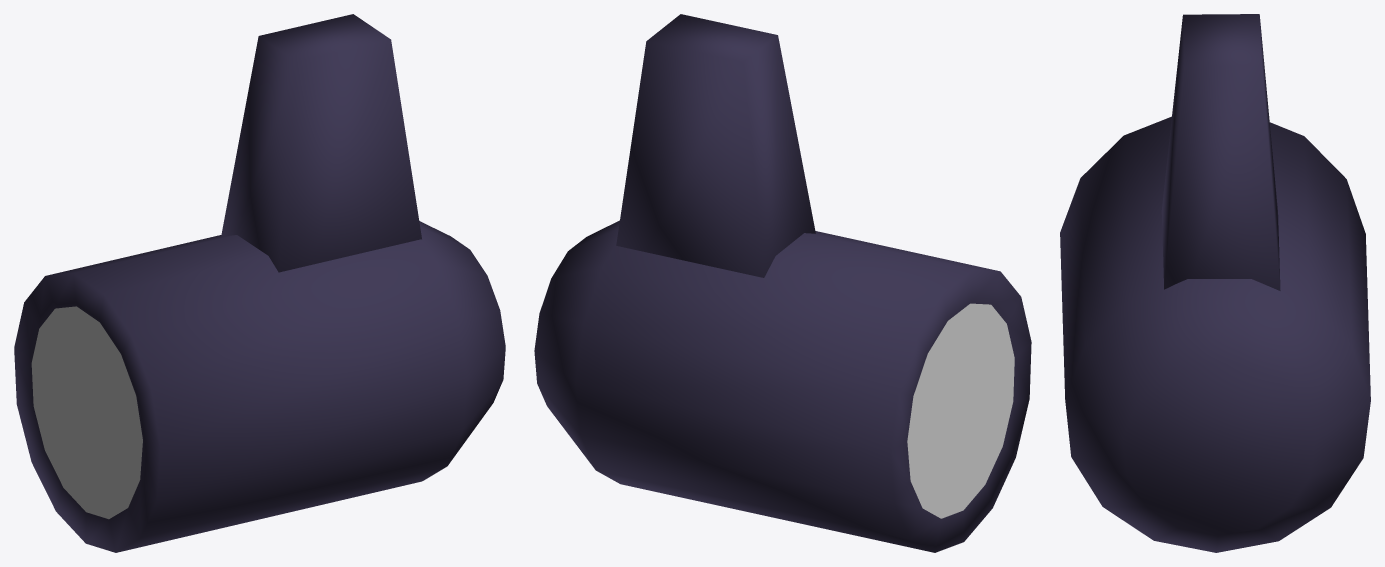
File: SM_scaffold_light.fbx
3 renders of one model, left to right at view 1: azimuth 30°, elevation 25°; view 2: azimuth 150°, elevation 25°; view 3: azimuth 270°, elevation 25°, orthographic. The views are drawn at different scales.
Parts seen in each view (by area): view 1: Cylinder.007; view 2: Cylinder.007; view 3: Cylinder.007.
Part boxes in pixels (box(x1,y1,x2,y2)): Cylinder.007: box(14, 14, 505, 552); Cylinder.007: box(534, 14, 1031, 552); Cylinder.007: box(1060, 14, 1370, 552).
Size of the model in its own units: 38.11 by 43.08 by 25.28.
